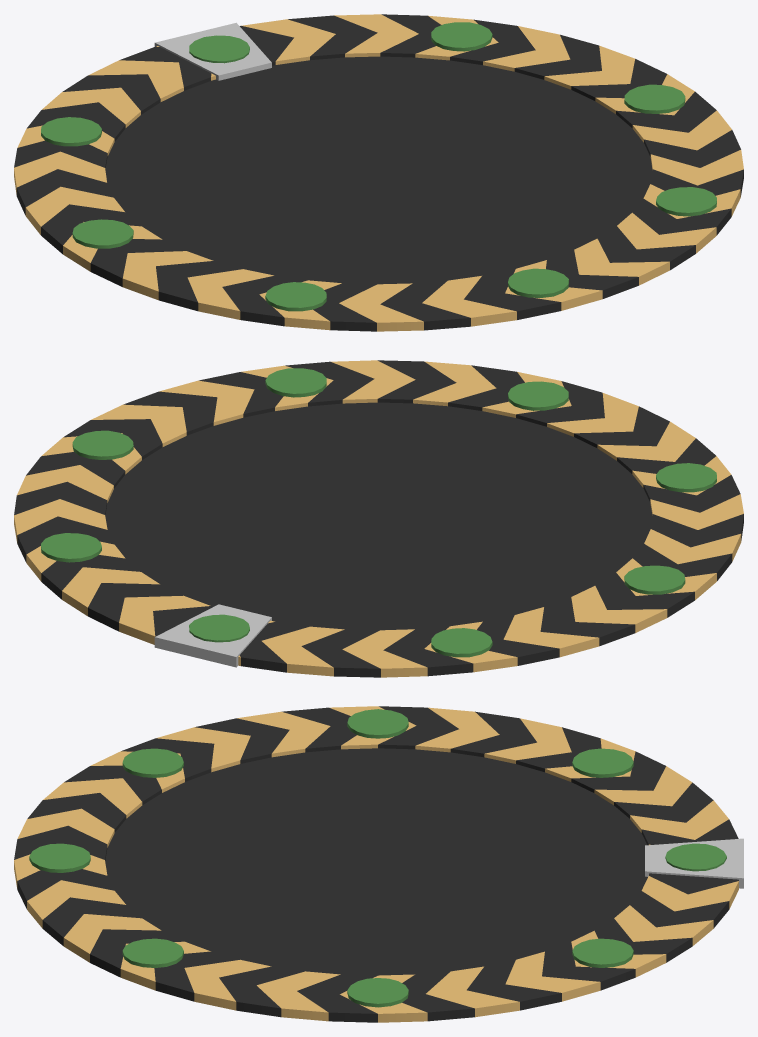
The model's file is SpawnerIndicator.fbx.
The picture shows the model from 3 angles, top to bottom: view 1: azimuth 30°, elevation 25°; view 2: azimuth 150°, elevation 25°; view 3: azimuth 270°, elevation 25°; orthographic projection.
Parts seen in each view (by area): view 1: SpawnerIndicator, clock_start_hint, clock_light5, clock_light1, clock_light7, clock_light6, clock_light2, clock_light3, clock_light4, clock_light0; view 2: SpawnerIndicator, clock_start_hint, clock_light7, clock_light2, clock_light3, clock_light6, clock_light5, clock_light4, clock_light1, clock_light0; view 3: SpawnerIndicator, clock_start_hint, clock_light6, clock_light7, clock_light2, clock_light1, clock_light5, clock_light3, clock_light4, clock_light0.
Part boxes in pixels (box(x1,y1,x2,y2)): SpawnerIndicator: box(14, 14, 743, 331); clock_start_hint: box(154, 22, 271, 80); clock_light5: box(265, 282, 326, 311); clock_light1: box(431, 22, 492, 51); clock_light7: box(41, 117, 101, 146); clock_light6: box(72, 219, 133, 248); clock_light2: box(624, 84, 685, 113); clock_light3: box(656, 187, 716, 216); clock_light4: box(508, 268, 568, 297); clock_light0: box(189, 35, 249, 63); SpawnerIndicator: box(14, 360, 743, 677); clock_start_hint: box(154, 604, 271, 667); clock_light7: box(431, 628, 492, 657); clock_light2: box(72, 430, 133, 459); clock_light3: box(265, 368, 326, 397); clock_light6: box(624, 565, 685, 594); clock_light5: box(656, 463, 716, 492); clock_light4: box(508, 381, 568, 410); clock_light1: box(41, 533, 101, 562); clock_light0: box(189, 614, 249, 642); SpawnerIndicator: box(14, 706, 738, 1022); clock_start_hint: box(645, 838, 743, 888); clock_light6: box(347, 709, 408, 738); clock_light7: box(572, 748, 633, 777); clock_light2: box(347, 978, 408, 1007); clock_light1: box(572, 938, 633, 967); clock_light5: box(122, 748, 183, 777); clock_light3: box(122, 938, 183, 967); clock_light4: box(29, 843, 90, 872); clock_light0: box(665, 843, 726, 871).
Size of the model in its own units: 2 by 2 by 0.0375.
